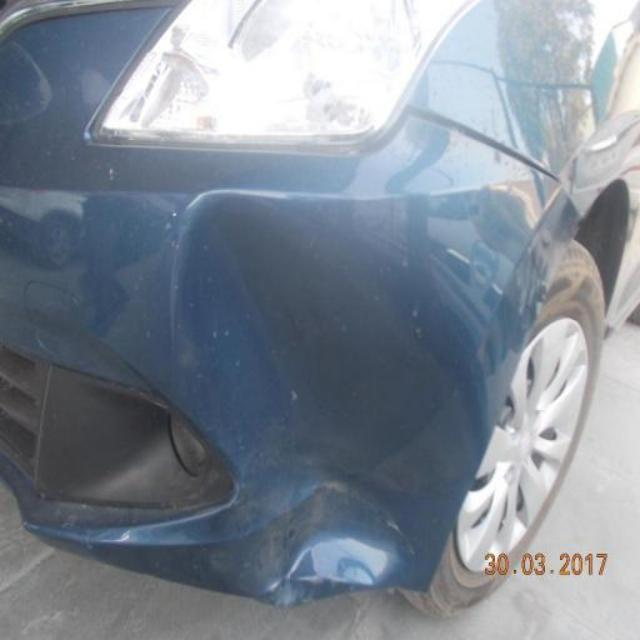dent: (173, 188, 479, 611)
dislocated part: (412, 99, 583, 215)
